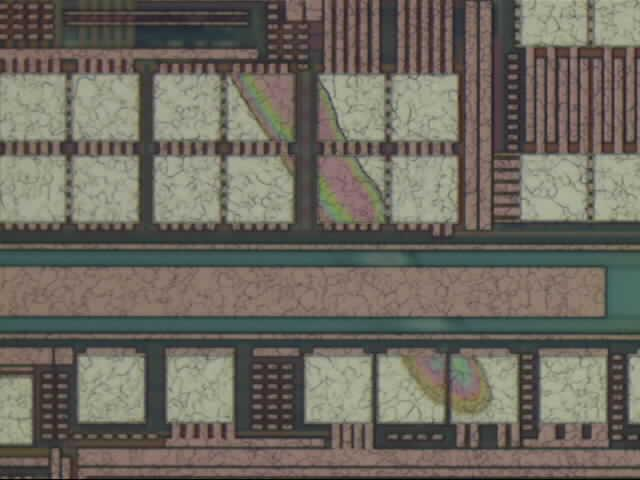COATING BAD: (231, 74, 493, 413)
